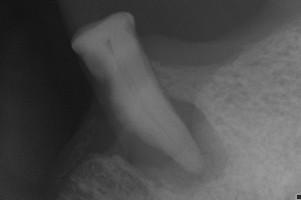Dental Caries: (108, 97, 230, 193)
